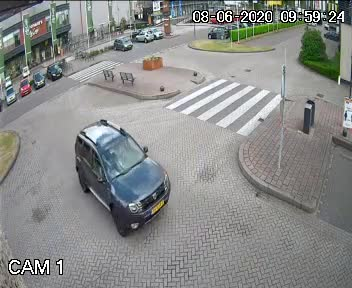car: (62, 115, 177, 236)
